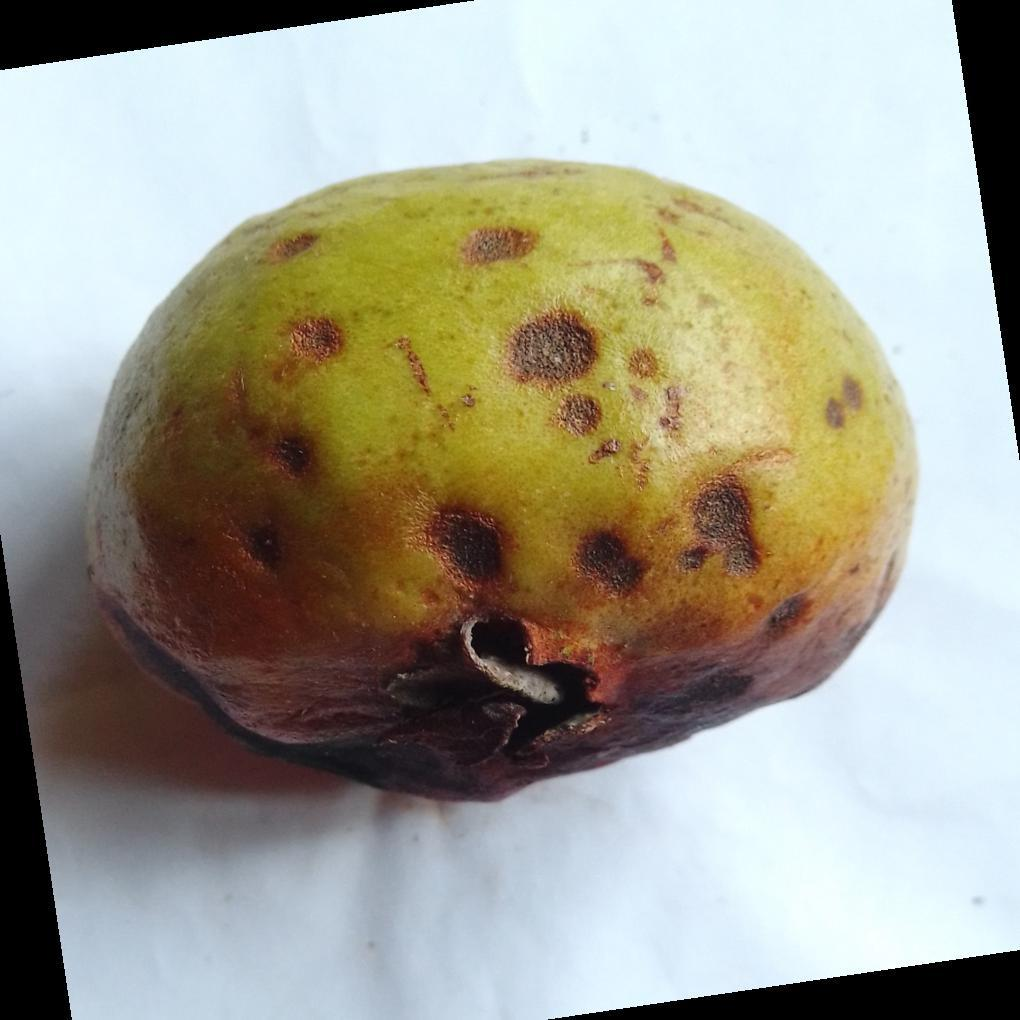FreshOrange: (82, 159, 920, 807)
